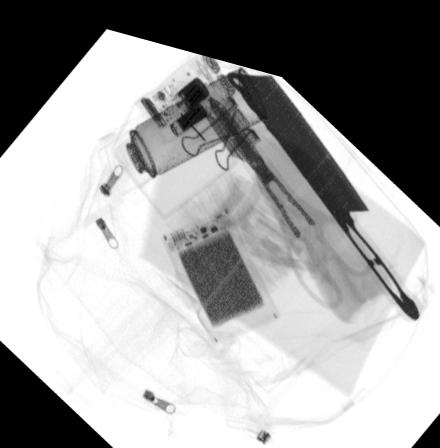Knife: (228, 58, 424, 299)
Powerbank: (157, 187, 283, 337)
Scissors: (208, 85, 380, 292)
Sprayer: (90, 53, 268, 188)
